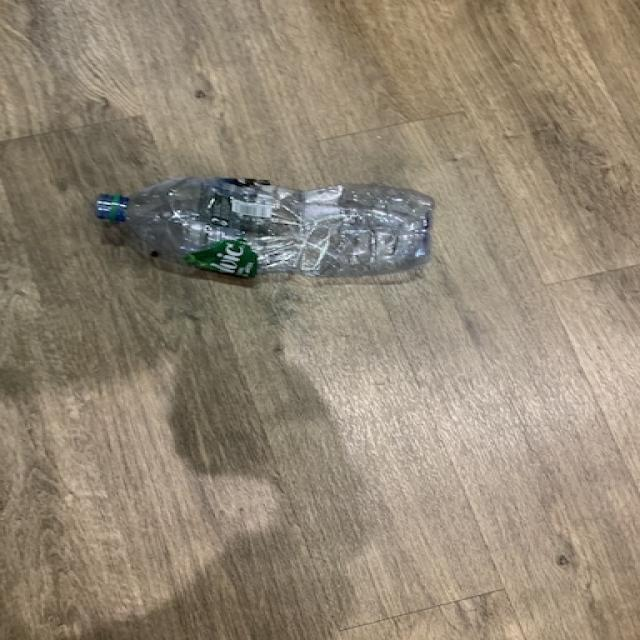plastic_bottle: (95, 176, 436, 278)
